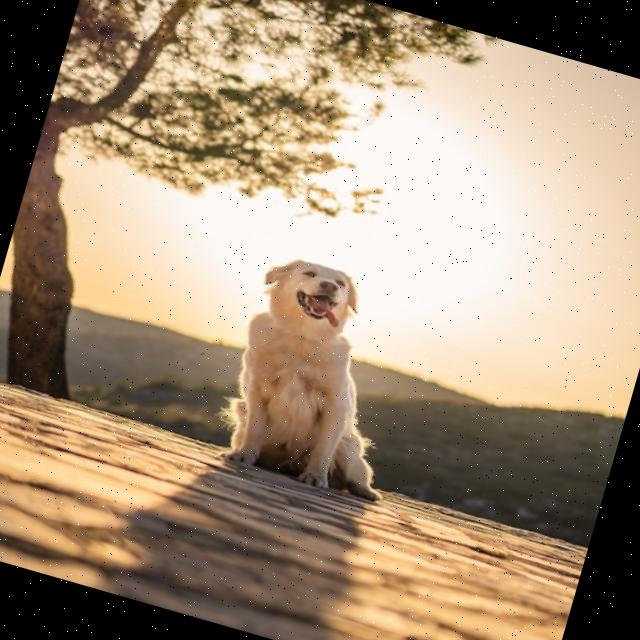Dog: (209, 248, 442, 504)
